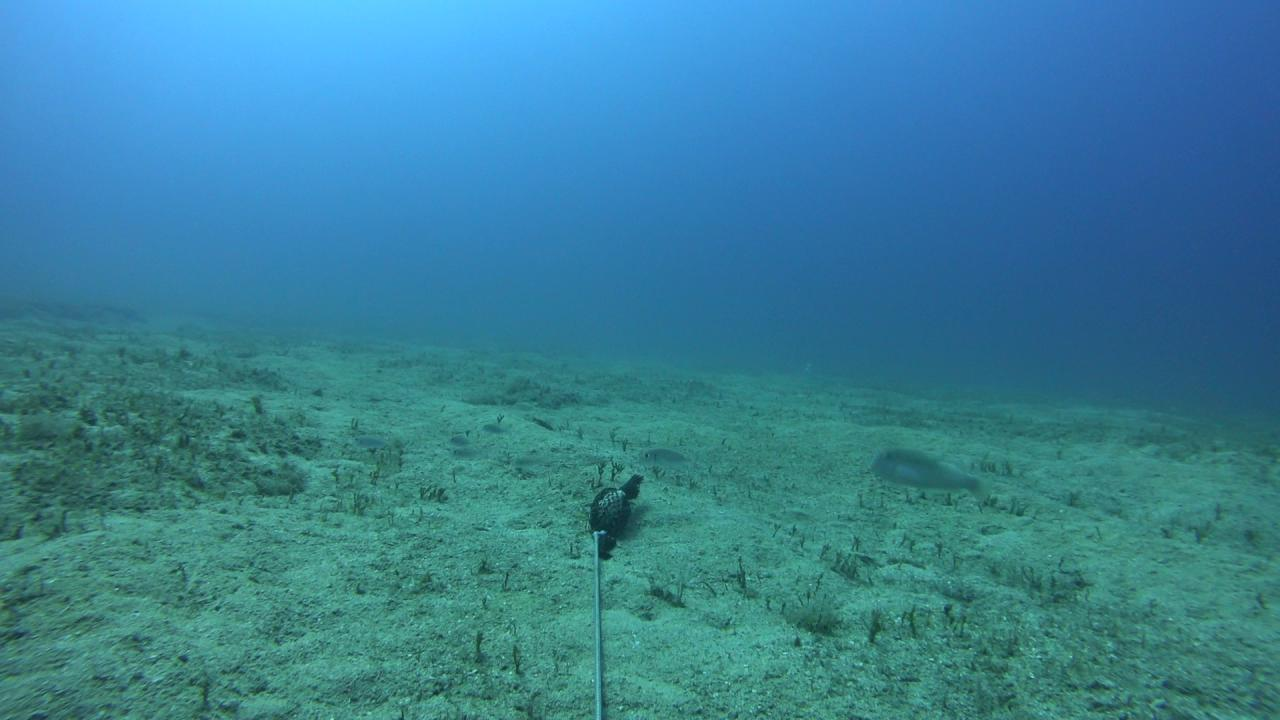pagellus: (637, 447, 698, 468), (349, 434, 395, 452), (482, 419, 514, 438), (446, 431, 479, 448), (447, 448, 481, 460)
raor: (863, 440, 999, 508)
